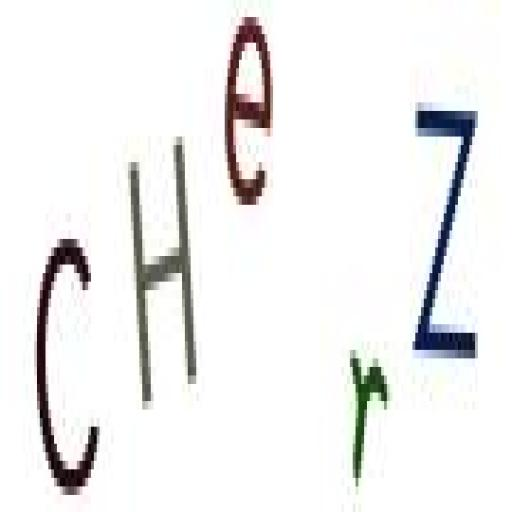C: (30, 210, 104, 512)
H: (124, 131, 198, 421)
Z: (412, 88, 488, 384)
e: (222, 6, 282, 226)
r: (343, 328, 395, 504)
